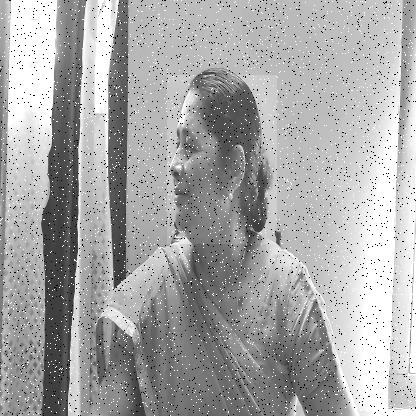Distracted: (167, 75, 277, 244)
